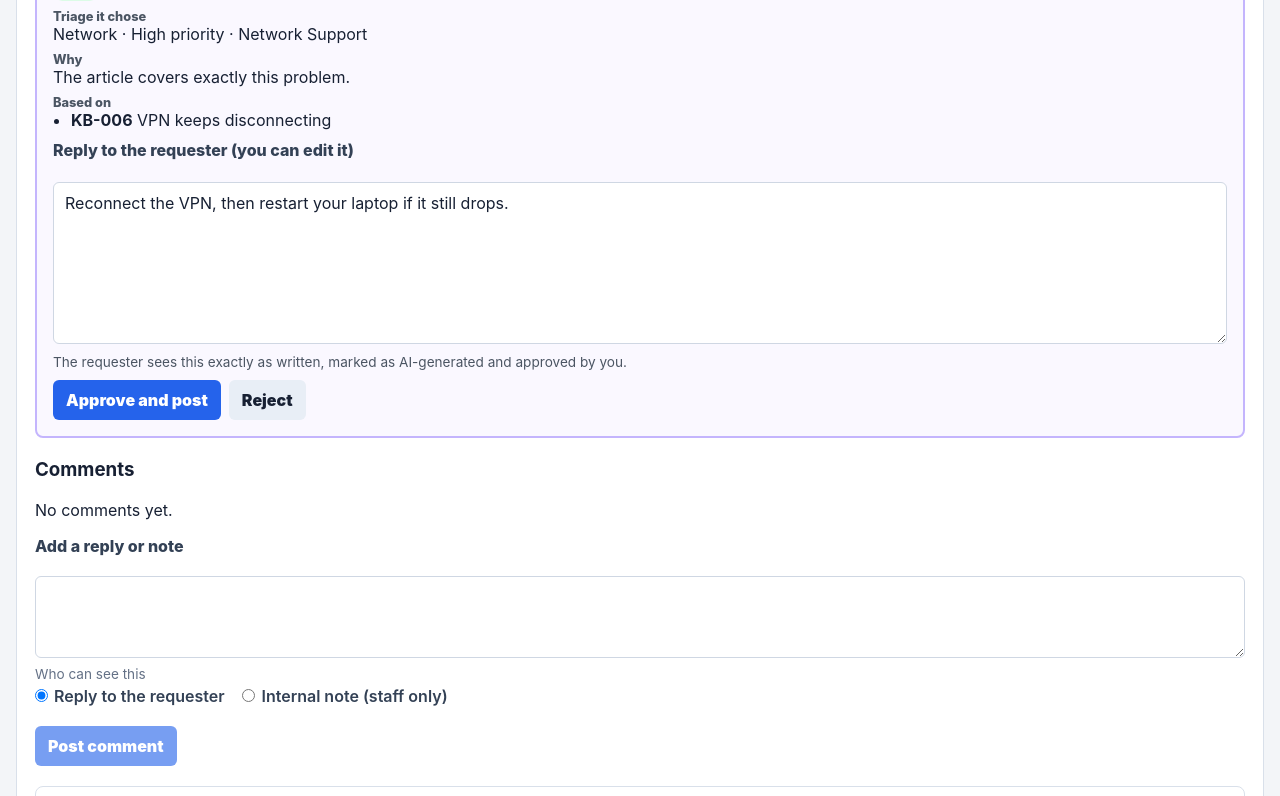
approving › posts the reply as it is, and says the ticket now waits for the requester
(page scrolled)
Expected: the heading "Comments" is shown, top-left (35, 458), bottom-right (134, 481)
Click the button "Approve and post".
click(137, 400)  # box top-left (53, 380), bottom-right (221, 420)
(page scrolled)
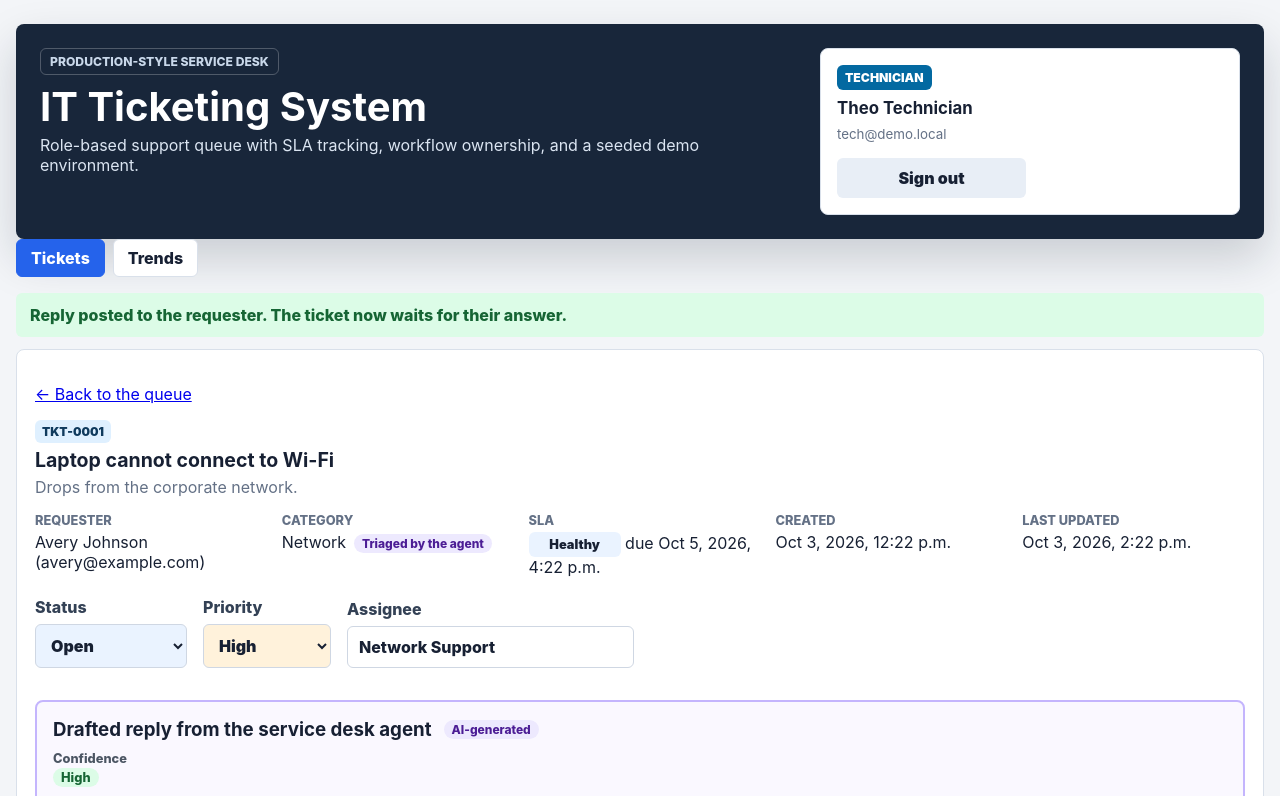
Expected: the text "Reply posted to the requester. The ticket now waits for their answer." is shown, top-left (30, 305), bottom-right (567, 325)
